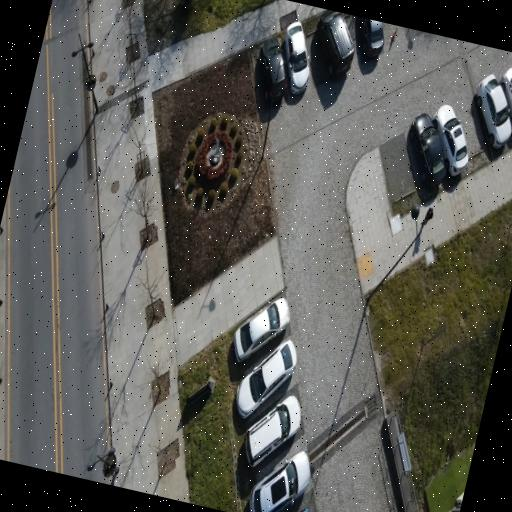car: (235, 340, 296, 418), (244, 396, 300, 466), (248, 451, 309, 511), (233, 298, 289, 361), (408, 114, 445, 186), (475, 75, 511, 148), (432, 105, 467, 176), (316, 10, 353, 76), (257, 38, 285, 103), (283, 22, 308, 94), (358, 17, 383, 57), (500, 68, 511, 128), (302, 509, 308, 511)
person: (420, 205, 435, 229)
